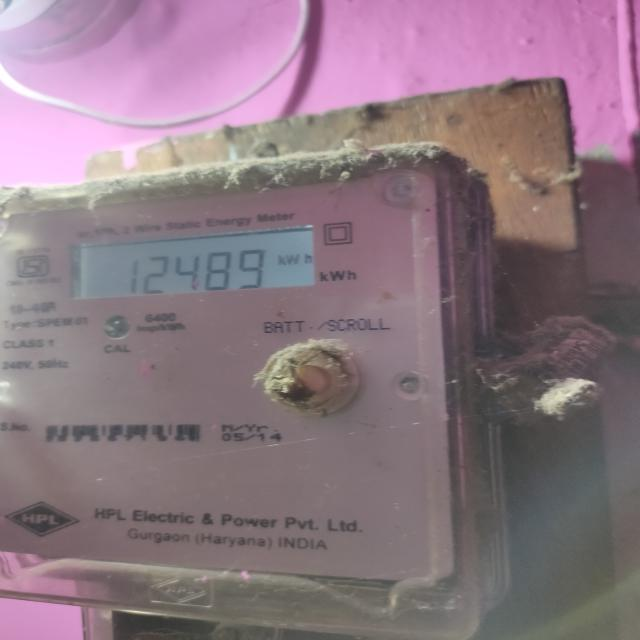display: (73, 232, 318, 304)
